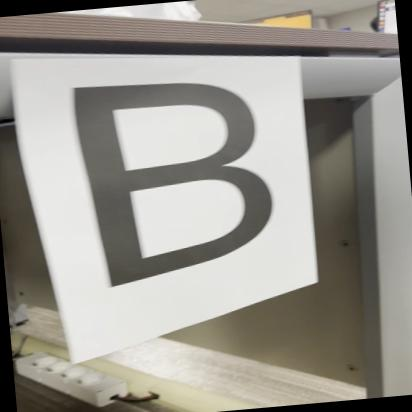seat: (40, 55, 297, 298)
